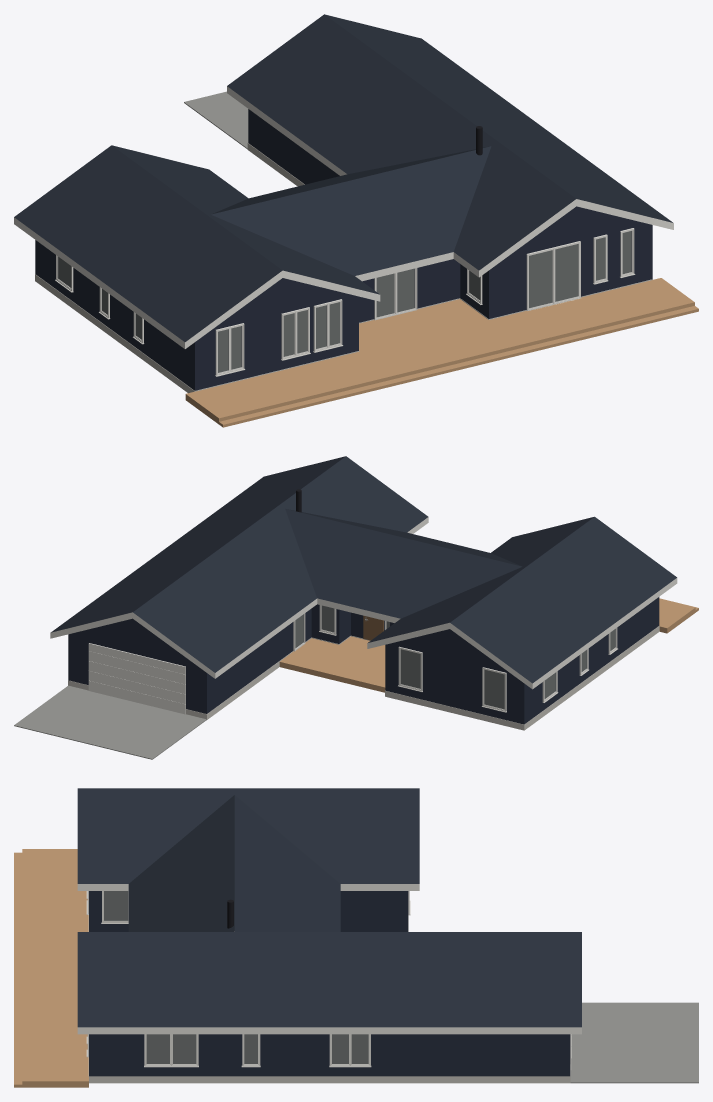
Rendered from teder270_c0_p0_m0.glb.
3 renders of one model, top to bottom at view 1: azimuth 30°, elevation 25°; view 2: azimuth 150°, elevation 25°; view 3: azimuth 270°, elevation 25°, orthographic. The views are drawn at different scales.
Visible parts, largest first — view 1: roof, wall, deck, glass, curtain, fascia, frame, plinth, paving; view 2: roof, wall, fascia, paving, deck, plinth, glass, curtain, frame; view 3: roof, wall, deck, paving, fascia, plinth, glass, curtain, frame.
Part boxes in pixels (box(x1,y1,x2,y2)): roof: box(14, 14, 672, 341); wall: box(35, 109, 652, 390); deck: box(185, 278, 698, 427); glass: box(57, 231, 631, 372); curtain: box(58, 231, 631, 372); fascia: box(14, 86, 673, 348); frame: box(55, 228, 635, 376); plinth: box(35, 143, 652, 393); paving: box(184, 91, 248, 149); roof: box(51, 456, 676, 683); wall: box(68, 597, 659, 724); fascia: box(50, 517, 677, 714); paving: box(14, 685, 206, 759); deck: box(279, 598, 698, 692); plinth: box(68, 626, 659, 730); glass: box(295, 605, 615, 709); curtain: box(295, 605, 615, 708); frame: box(88, 605, 617, 712); roof: box(77, 788, 581, 1027); wall: box(89, 891, 570, 1076); deck: box(14, 849, 88, 1087); paving: box(570, 1002, 698, 1083); fascia: box(77, 884, 581, 1070); plinth: box(88, 915, 570, 1083); glass: box(104, 891, 368, 1063); curtain: box(104, 891, 368, 1063); frame: box(86, 891, 571, 1067).
Bounding box in the file's own units: 21.93 × 5.66 × 26.62.
13 materials, 5 textured.
